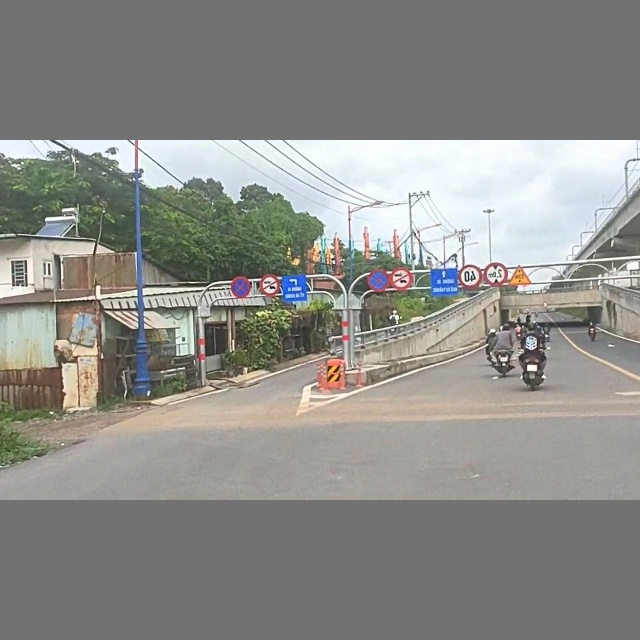P.107: (388, 267, 413, 291), (259, 274, 280, 297)
P.117*: (483, 262, 508, 287)
P.127*40: (457, 264, 482, 289)
P.130: (229, 276, 251, 299), (367, 269, 387, 293)
W.239b*: (508, 265, 531, 287)
